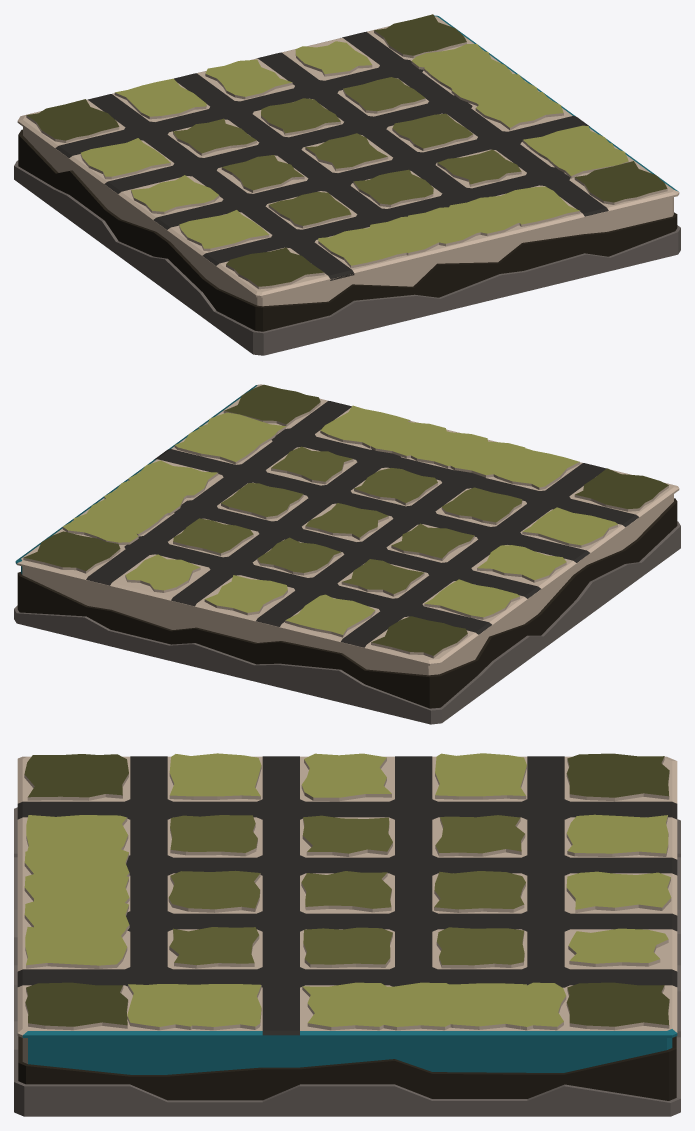
The model's file is Map1.fbx.
3 renders of one model, top to bottom at view 1: azimuth 30°, elevation 25°; view 2: azimuth 150°, elevation 25°; view 3: azimuth 270°, elevation 25°, orthographic. The views are drawn at different scales.
Visible parts, largest first — view 1: Map1; view 2: Map1; view 3: Map1.
Part boxes in pixels (x1=…): Map1: x1=14, y1=14, x2=680, y2=355; Map1: x1=14, y1=384, x2=680, y2=724; Map1: x1=14, y1=753, x2=680, y2=1116.
Bounding box in the file's own units: 454 × 64.2 × 454.
